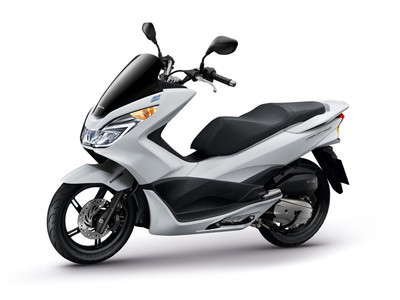motorcycle: (47, 21, 351, 266)
